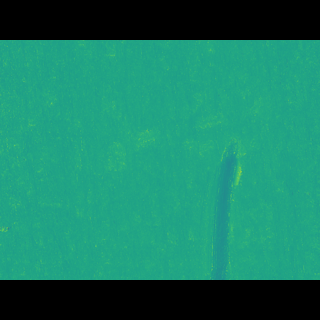Loch: (190, 137, 246, 250)
